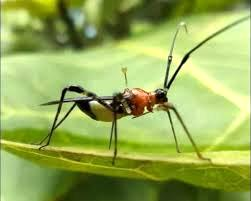Helopeltis-insect: (65, 85, 170, 123)
